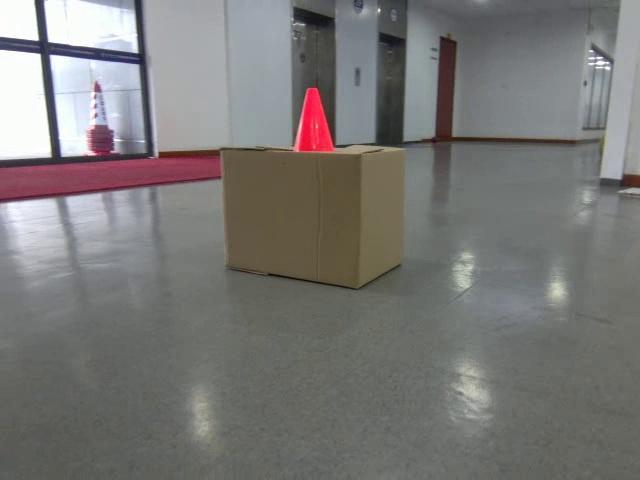orange_barrel: (290, 87, 336, 154)
